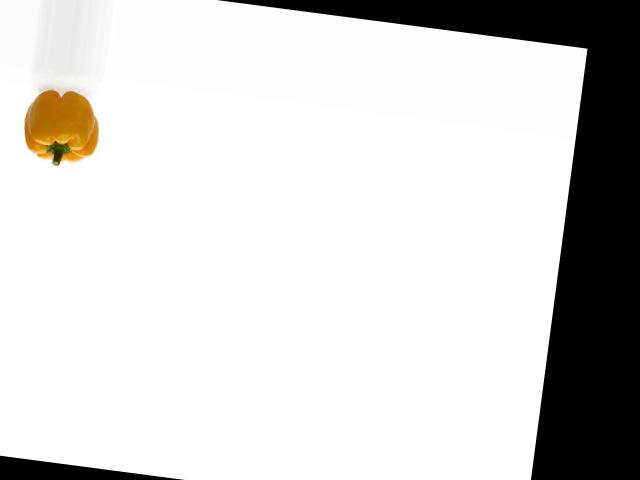bell_pepper: (20, 84, 109, 173)
